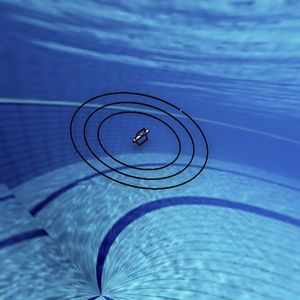circle: (65, 77, 214, 203)
submarine: (125, 121, 155, 151)
